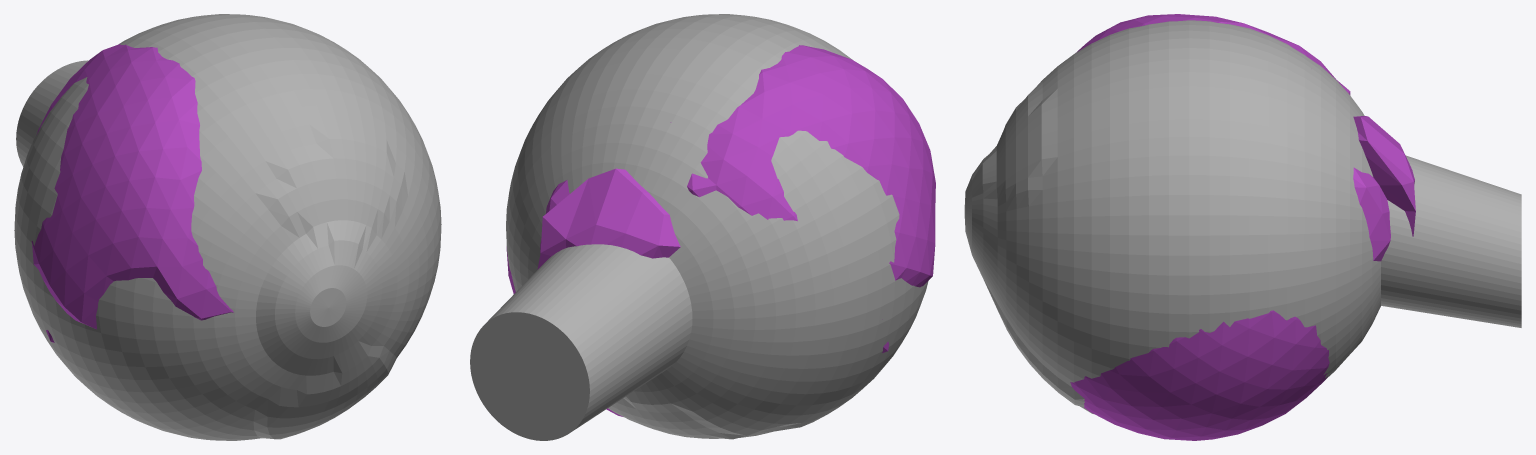
Rendered from G01_DEFORM_GROW_GT_ALIGNED.glb.
3 views of the same model, side by side, from view 1: azimuth 30°, elevation 25°; view 2: azimuth 150°, elevation 25°; view 3: azimuth 270°, elevation 25° (orthographic). The views are drawn at different scales.
Parts seen in each view (by area): view 1: GT, DEFORM_GROW_ALIGNED_EVALUATION_ONLY; view 2: GT, DEFORM_GROW_ALIGNED_EVALUATION_ONLY; view 3: GT, DEFORM_GROW_ALIGNED_EVALUATION_ONLY.
Part boxes in pixels (x1,y1,x2,y2): GT: (14,14,441,440); DEFORM_GROW_ALIGNED_EVALUATION_ONLY: (31,43,233,342); GT: (470,14,928,440); DEFORM_GROW_ALIGNED_EVALUATION_ONLY: (506,45,935,416); GT: (964,20,1521,413); DEFORM_GROW_ALIGNED_EVALUATION_ONLY: (1070,14,1415,440).
Bounding box in the file's own units: 0.0121 × 0.012 × 0.0161.
